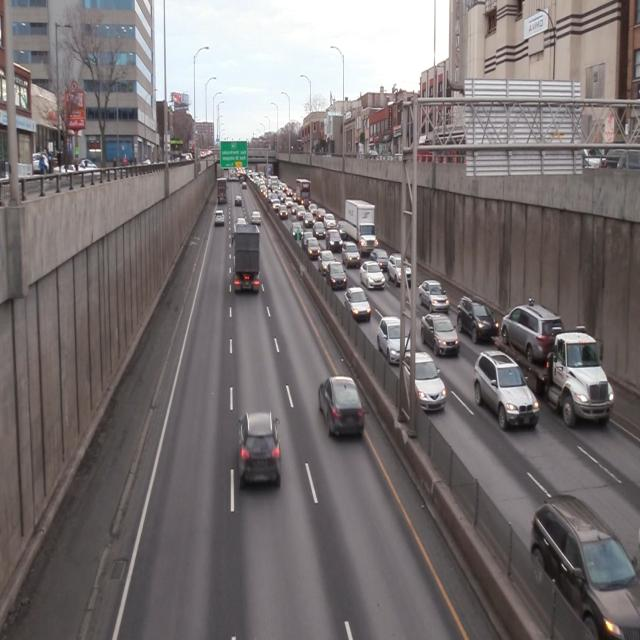Car: (531, 498, 640, 640), (496, 304, 615, 431), (473, 352, 539, 438), (234, 411, 282, 491), (317, 372, 362, 442), (404, 353, 446, 413), (232, 224, 262, 296), (456, 295, 498, 345), (345, 198, 378, 249), (421, 316, 460, 358), (379, 319, 412, 361), (417, 278, 450, 313), (344, 288, 372, 323), (389, 252, 413, 290), (362, 260, 385, 292), (328, 263, 347, 291), (343, 241, 361, 267), (371, 250, 390, 270)
